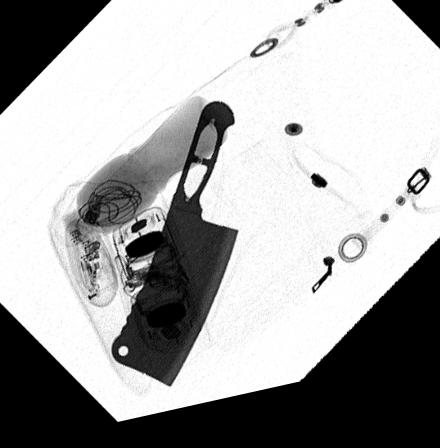Knife: (110, 109, 238, 394)
